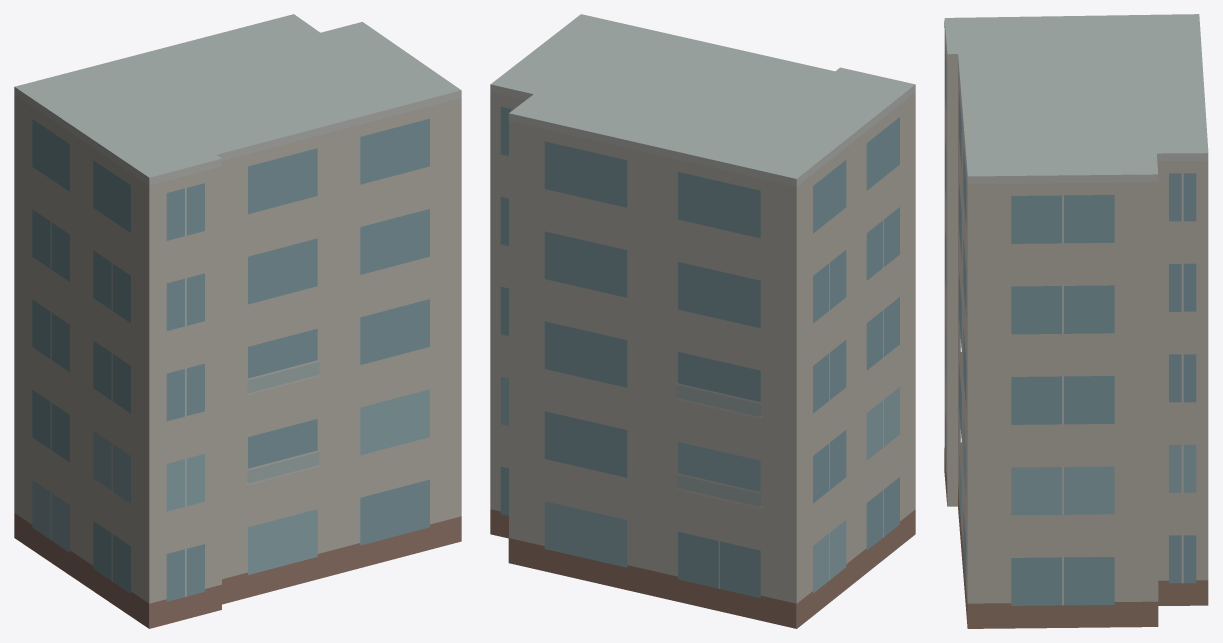
The model's file is survey-upis-32880220.glb.
The picture shows the model from 3 angles, left to right: view 1: azimuth 30°, elevation 25°; view 2: azimuth 150°, elevation 25°; view 3: azimuth 270°, elevation 25°; orthographic projection.
Visible parts, largest first — view 1: survey-upis-32880220.tmp; view 2: survey-upis-32880220.tmp; view 3: survey-upis-32880220.tmp.
Part boxes in pixels (<box>): survey-upis-32880220.tmp: <box>14,14,461,628</box>; survey-upis-32880220.tmp: <box>490,14,915,628</box>; survey-upis-32880220.tmp: <box>944,14,1208,628</box>.
Size of the model in its own units: 11.09 by 14.4 by 7.63.
